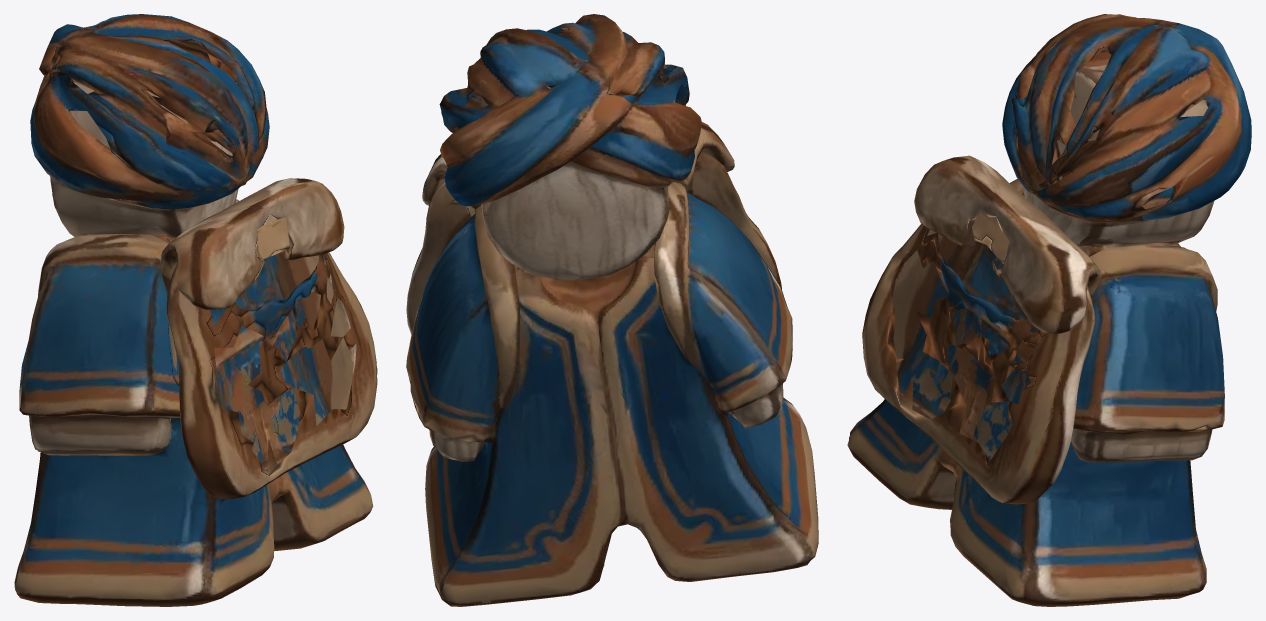
The model's file is meeple.glb.
3 renders of one model, left to right at view 1: azimuth 30°, elevation 25°; view 2: azimuth 150°, elevation 25°; view 3: azimuth 270°, elevation 25°, orthographic. The views are drawn at different scales.
Parts seen in each view (by area): view 1: geometry_0; view 2: geometry_0; view 3: geometry_0.
Part boxes in pixels (x1,y1,x2,y2): geometry_0: [14, 14, 377, 606]; geometry_0: [406, 14, 818, 606]; geometry_0: [847, 14, 1251, 606].
Bounding box in the file's own units: 0.6135 × 0.8461 × 0.5908.
1 material, 1 textured.
